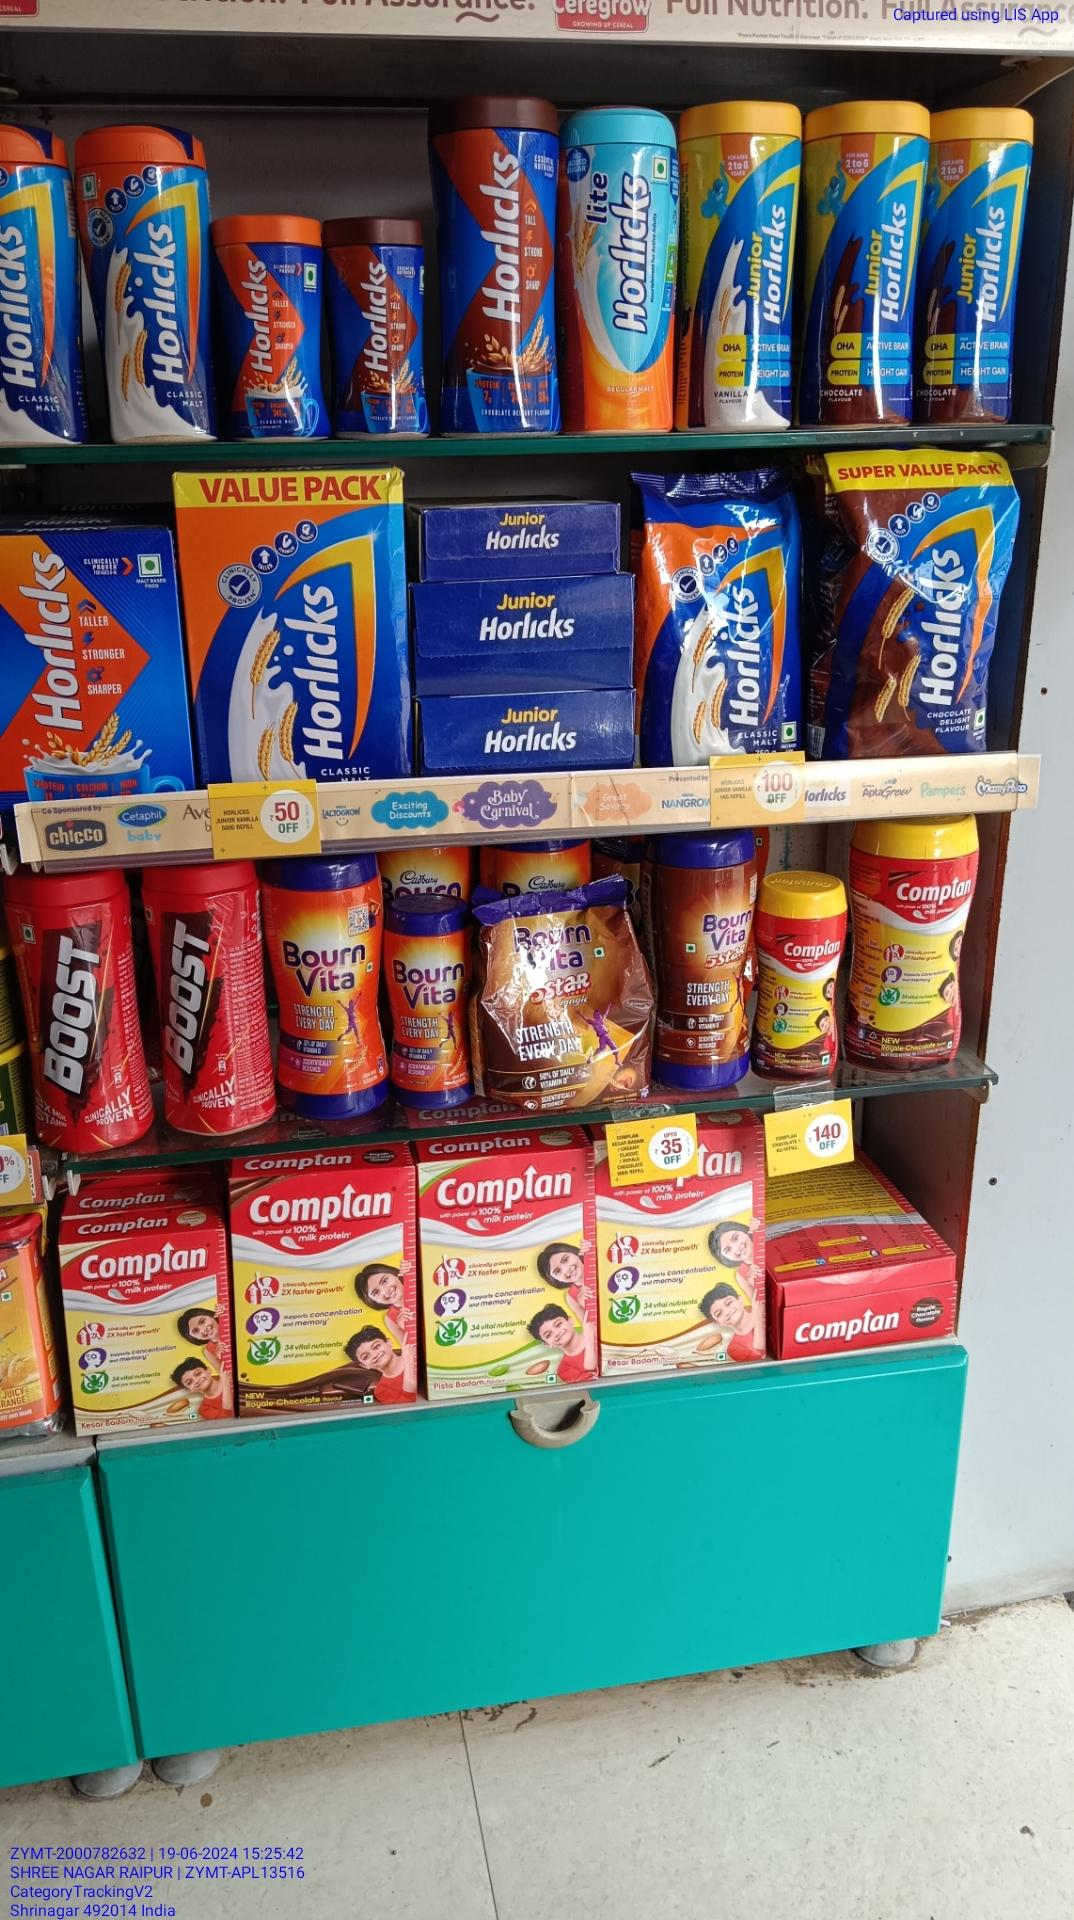BOURN_VITA_FIVE_STAR_MAGIC_500_G_JAR: (656, 839, 751, 1097)
BOURN_VITA_FIVE_STAR_MAGIC_500_G_POUCH: (486, 910, 647, 1113)
COMPLAN_CHOCOLATE_200_GMS_JAR: (759, 873, 840, 1079)
COMPLAN_CHOCOLATE_500_GMS_JAR: (854, 820, 964, 1069)
COMPLAN_KESAR_BADAM_200_GMS_PACK: (65, 1245, 228, 1427)
COMPLAN_PISTA_BADAM_500_GMS_PACK: (420, 1151, 592, 1387)
HORLICKS_JUNIOR_VANILLA_500_GM_JAR: (683, 102, 796, 435)
HORLICKS_LITE_REGULAR_MALT_500_GM_JAR: (566, 112, 678, 431)
